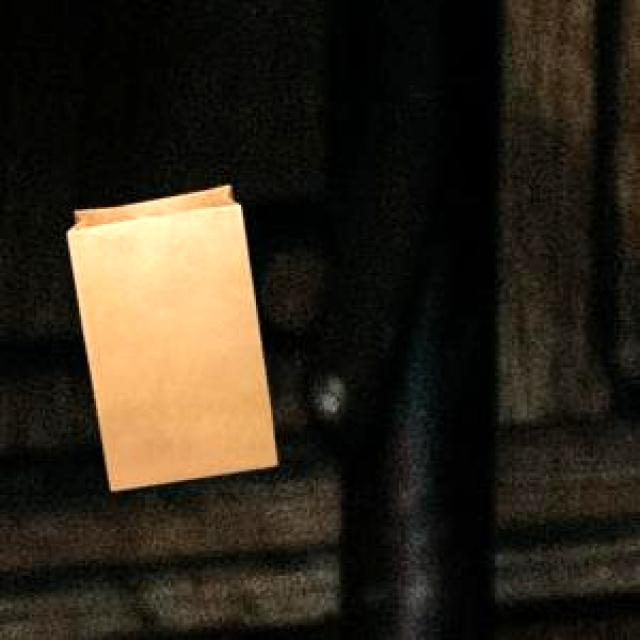Paper_Bag: (65, 182, 274, 488)
